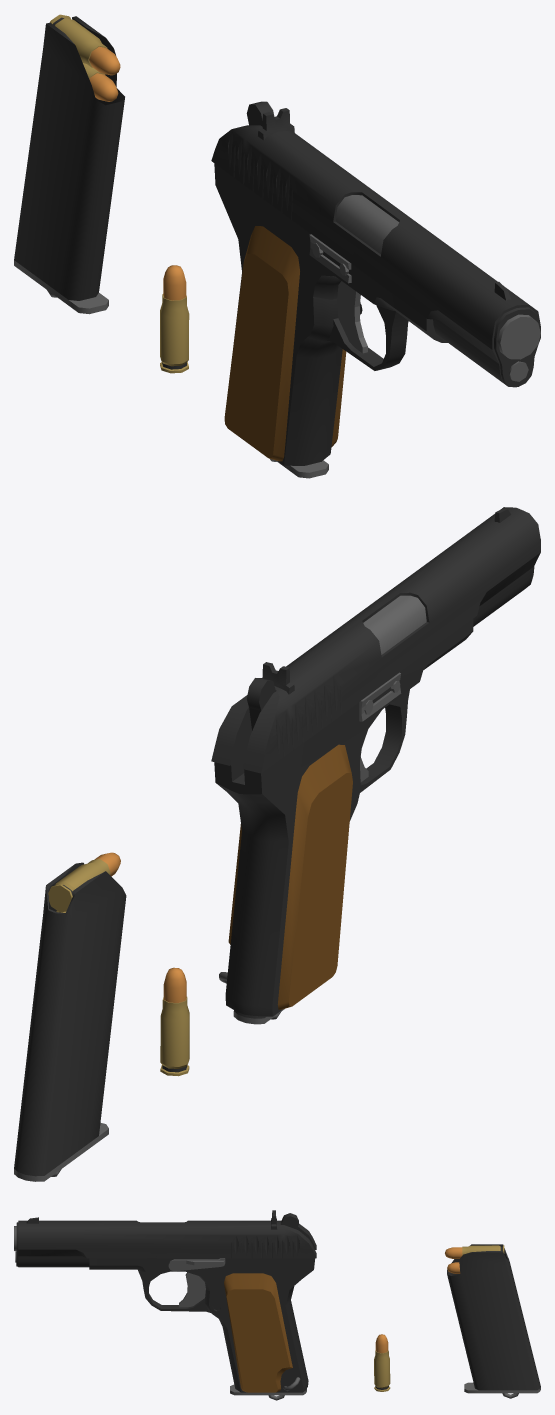
3 renders of one model, top to bottom at view 1: azimuth 30°, elevation 25°; view 2: azimuth 150°, elevation 25°; view 3: azimuth 270°, elevation 25°, orthographic. The views are drawn at different scales.
Parts seen in each view (by area): view 1: Object_2, Object_6, Object_5, Object_4, Object_3; view 2: Object_2, Object_6, Object_5, Object_4, Object_3; view 3: Object_2, Object_6, Object_5, Object_4, Object_3.
Part boxes in pixels (<box>): Object_2: <box>14,16,540,465</box>; Object_6: <box>224,226,346,461</box>; Object_5: <box>14,195,540,478</box>; Object_4: <box>50,14,189,373</box>; Object_3: <box>89,46,186,300</box>; Object_2: <box>14,507,540,1176</box>; Object_6: <box>228,744,352,1009</box>; Object_5: <box>14,539,540,1181</box>; Object_4: <box>48,859,189,1076</box>; Object_3: <box>94,852,186,1002</box>; Object_2: <box>16,1210,540,1392</box>; Object_6: <box>224,1273,292,1392</box>; Object_5: <box>14,1222,540,1400</box>; Object_4: <box>374,1245,504,1391</box>; Object_3: <box>375,1247,462,1353</box>.
Bounding box in the file's own units: 0.0217 × 0.1005 × 0.2565.
